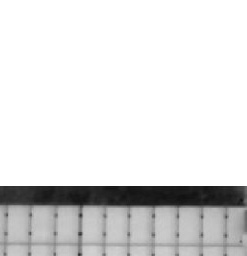solar: (3, 202, 33, 245), (27, 202, 57, 245), (52, 202, 82, 245), (78, 202, 108, 245), (102, 204, 132, 247), (126, 204, 156, 247), (150, 204, 180, 247), (174, 204, 204, 247), (199, 204, 229, 247)
